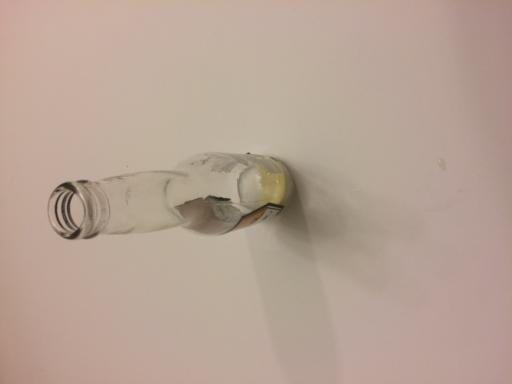botolkaca: (45, 152, 297, 240)
